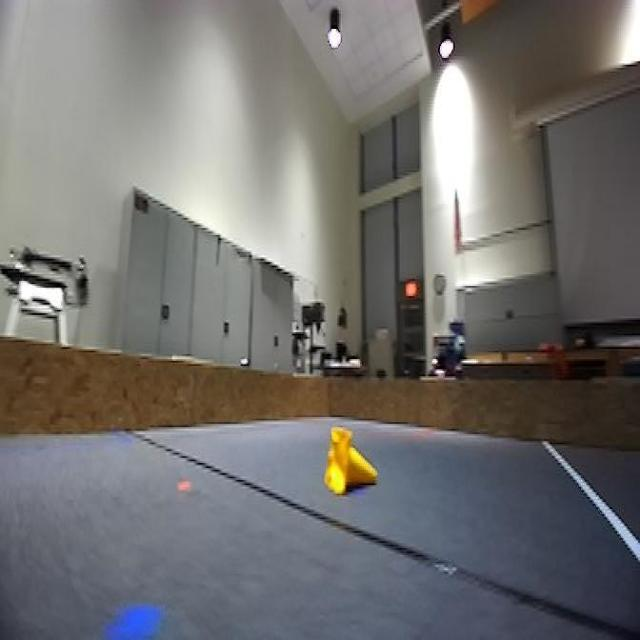frc_cone: (320, 432, 372, 504)
